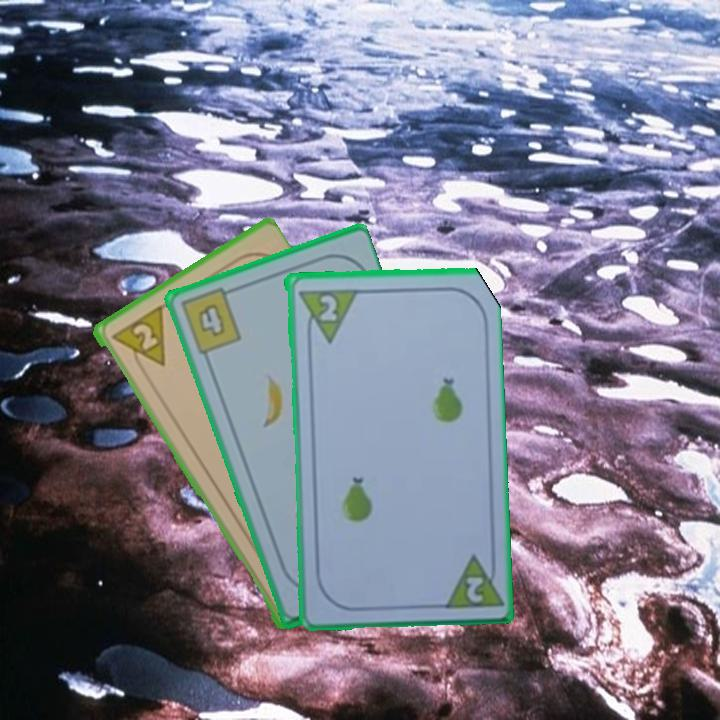2p: (107, 302, 169, 378), (294, 284, 358, 345), (462, 572, 486, 606)
4b: (176, 283, 244, 357)
